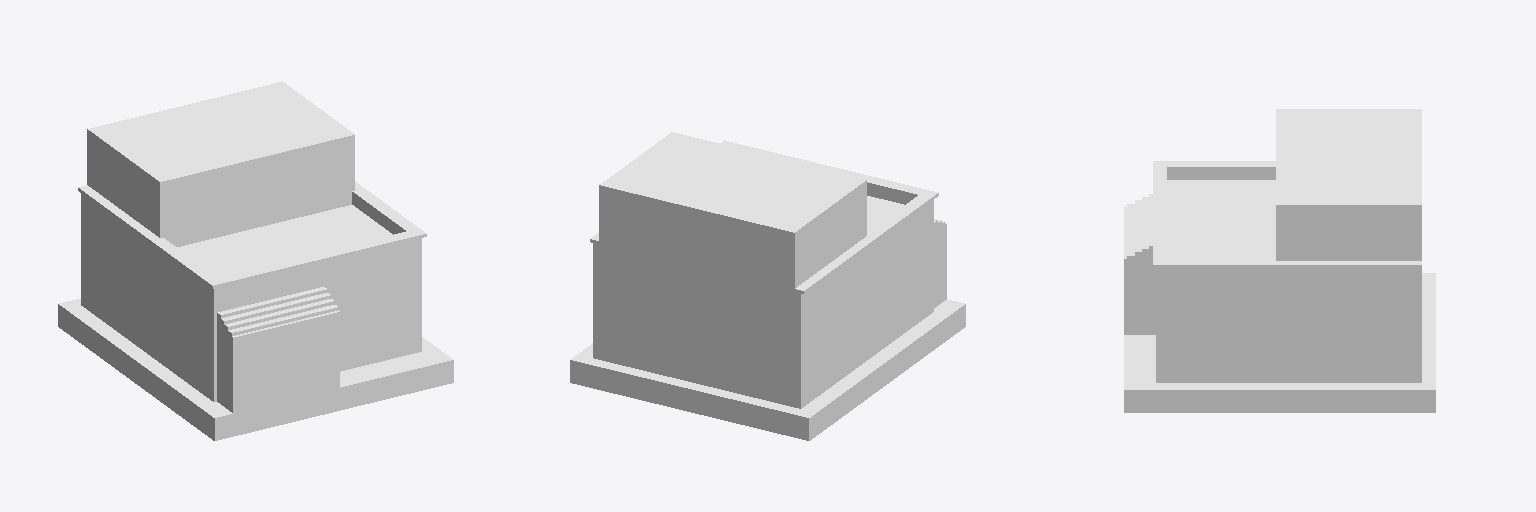
The model's file is build2.obj.
3 renders of one model, left to right at view 1: azimuth 30°, elevation 25°; view 2: azimuth 150°, elevation 25°; view 3: azimuth 270°, elevation 25°, orthographic.
Visible parts, largest first — view 1: build2; view 2: build2; view 3: build2.
Part boxes in pixels (left/top/right/bottom): build2: left=58, top=81, right=453, bottom=440; build2: left=570, top=132, right=965, bottom=440; build2: left=1124, top=109, right=1435, bottom=412.
Size of the model in its own units: 76 by 60 by 86.